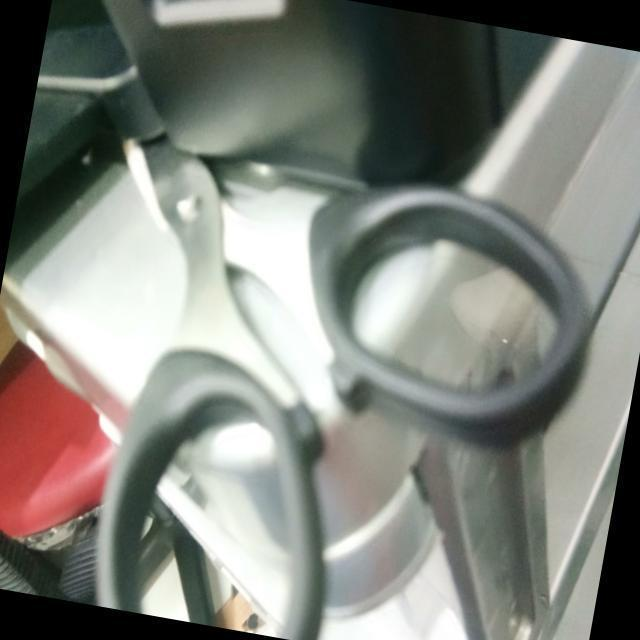scissors: (59, 132, 640, 640)
